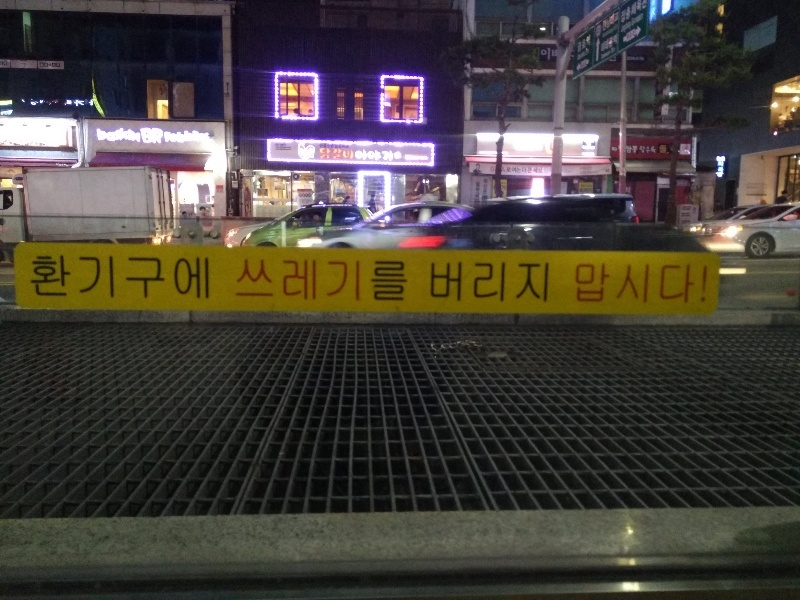text: (577, 1, 592, 79), (593, 1, 608, 79), (609, 1, 624, 79), (625, 1, 640, 79), (33, 254, 48, 302), (49, 254, 64, 302), (65, 254, 80, 302), (81, 254, 96, 302), (97, 254, 112, 302), (113, 254, 128, 302), (129, 254, 144, 302), (145, 254, 160, 302), (161, 254, 176, 302), (177, 254, 192, 302), (193, 254, 208, 302), (241, 258, 256, 306), (257, 258, 272, 306), (273, 258, 288, 306), (289, 258, 304, 306), (305, 258, 320, 306), (321, 258, 336, 306), (337, 258, 352, 306), (353, 258, 368, 306), (369, 258, 384, 306), (385, 258, 400, 306), (577, 261, 592, 307), (593, 261, 608, 307), (609, 261, 624, 307), (625, 261, 640, 307), (641, 261, 656, 307), (657, 261, 672, 307), (673, 261, 688, 307), (689, 261, 704, 307), (433, 260, 448, 304), (449, 260, 464, 304), (465, 260, 480, 304), (481, 260, 496, 304), (497, 260, 512, 304), (513, 260, 528, 304), (529, 260, 544, 304), (641, 1, 649, 79), (401, 258, 407, 306), (545, 45, 560, 63), (545, 260, 551, 304), (321, 146, 336, 163), (337, 146, 352, 163), (353, 146, 368, 163), (369, 146, 384, 163), (385, 146, 400, 163), (97, 127, 112, 144), (113, 127, 128, 144), (129, 127, 144, 144), (145, 127, 160, 144), (161, 127, 176, 144), (177, 127, 192, 144), (193, 127, 208, 144), (625, 143, 640, 156), (641, 143, 656, 156), (28, 254, 32, 302), (236, 258, 240, 306), (705, 261, 709, 307), (209, 254, 211, 302), (574, 261, 576, 307), (539, 45, 544, 63), (430, 260, 432, 304), (575, 1, 576, 79), (209, 127, 212, 144), (401, 146, 403, 163), (561, 45, 562, 63), (319, 146, 320, 163), (657, 143, 658, 156)
